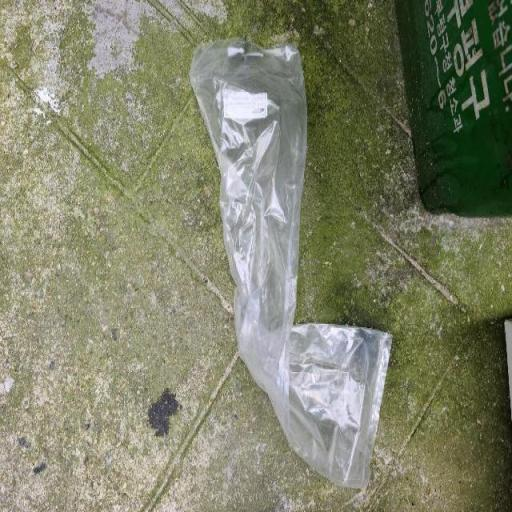plastic-bag: (186, 32, 395, 493)
